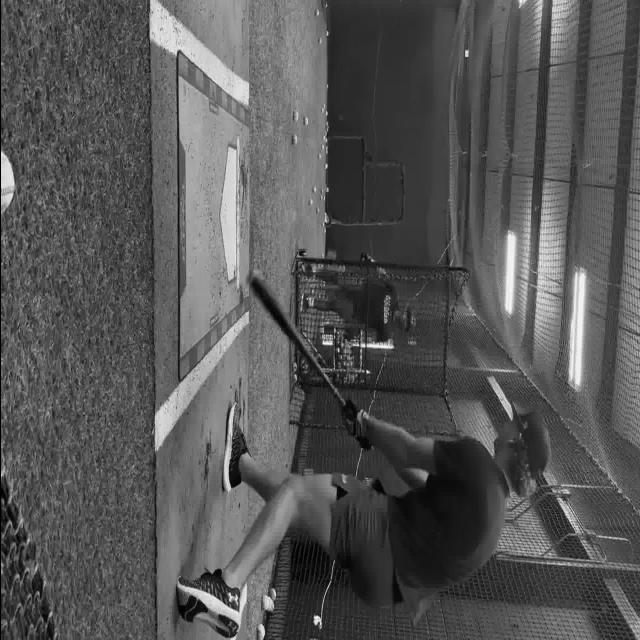base: (220, 144, 237, 290)
baseball: (1, 150, 14, 214), (262, 594, 274, 612), (256, 622, 264, 640), (268, 587, 276, 600), (292, 110, 298, 122), (302, 116, 308, 126), (291, 134, 297, 144), (314, 8, 318, 16), (312, 185, 316, 193), (308, 198, 312, 205), (318, 37, 322, 43), (325, 30, 328, 36)
bat: (248, 272, 354, 424)
shoe: (176, 568, 242, 638), (222, 400, 250, 492)
